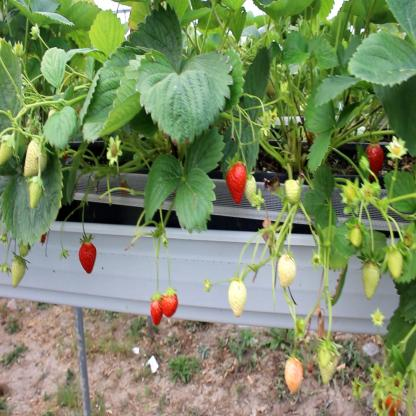ripe: (226, 153, 246, 209), (368, 134, 389, 185), (75, 240, 102, 271), (160, 286, 183, 320), (145, 294, 162, 330)
unripe: (266, 250, 298, 290), (311, 348, 342, 386), (282, 355, 308, 395), (278, 175, 306, 211), (228, 274, 248, 311), (382, 251, 410, 277), (360, 264, 381, 298), (348, 222, 363, 247)
